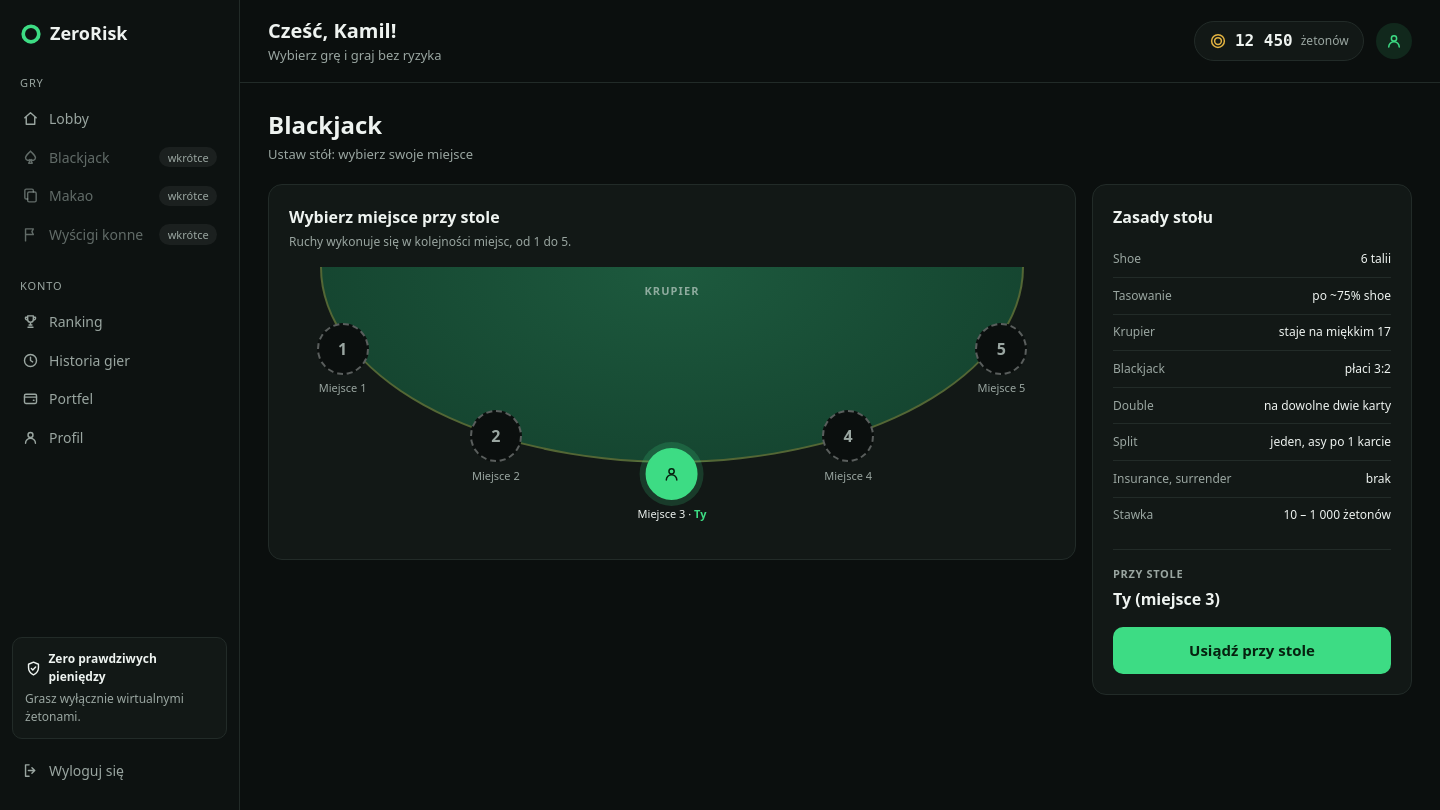
BlackjackSetupPage › shows the error when the table cannot be opened
This screenshot has width=1440, height=810.
Expected: the element "Wybierz miejsce przy stole" is shown, [289,205,1055,539]
Click the button "Usiądź przy stole" at (1252,650), box [1113,627,1391,674]
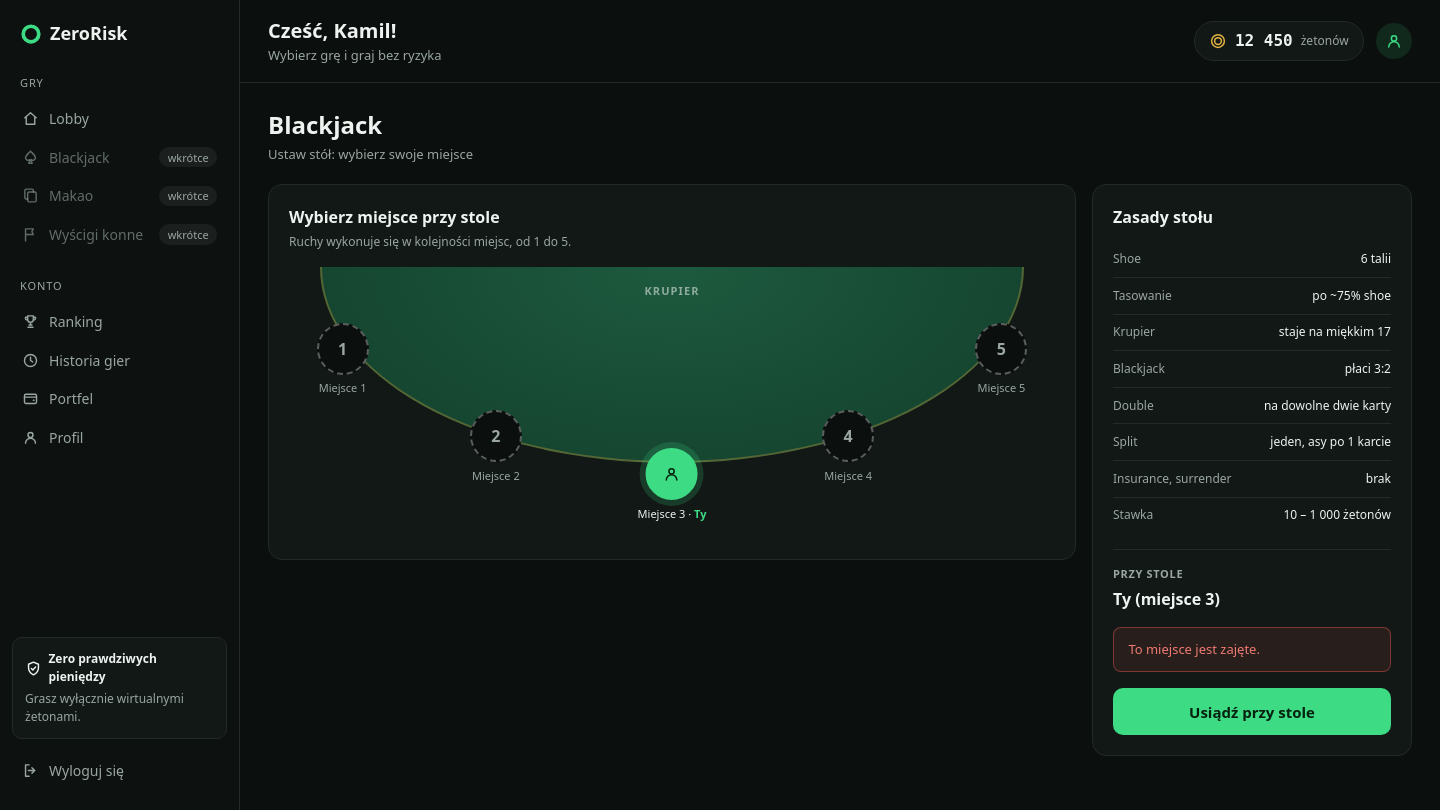
Expected: the button "Usiądź przy stole" is enabled, [1113,688,1391,735]
Result: the message reads "To miejsce jest zajęte." at [1128,640,1260,658]
